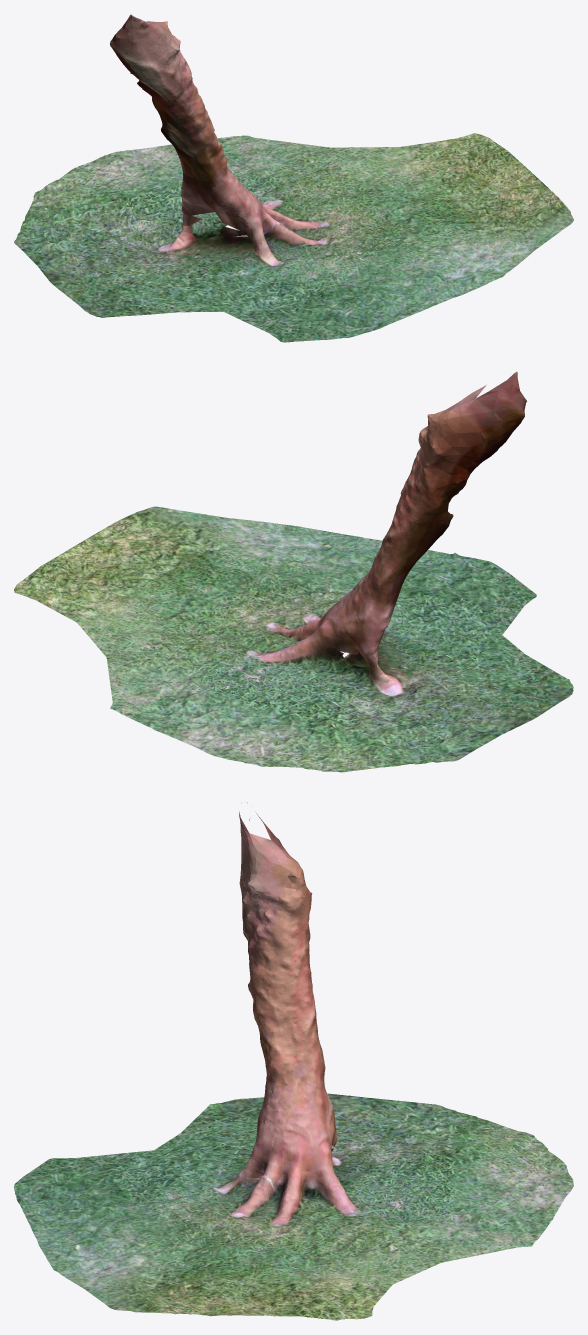
File: hand2.glb
The picture shows the model from 3 angles, top to bottom: view 1: azimuth 30°, elevation 25°; view 2: azimuth 150°, elevation 25°; view 3: azimuth 270°, elevation 25°; orthographic projection. The views are drawn at different scales.
Parts seen in each view (by area): view 1: mesh; view 2: mesh; view 3: mesh.
Part boxes in pixels (x1=…): mesh: x1=14, y1=14, x2=573, y2=342; mesh: x1=14, y1=371, x2=573, y2=772; mesh: x1=14, y1=802, x2=573, y2=1320.
Size of the model in its own units: 0.622 by 0.3732 by 0.5823.
1 material, 1 textured.
